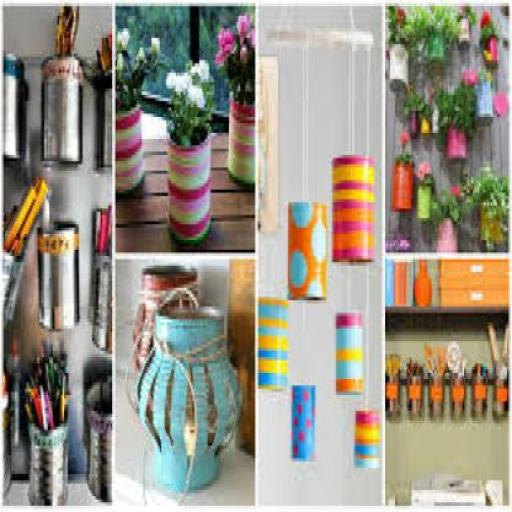metal: (136, 300, 244, 490), (130, 265, 197, 414), (166, 117, 211, 244), (38, 50, 83, 165), (330, 152, 372, 262), (36, 221, 78, 329), (286, 199, 324, 297), (26, 417, 66, 509), (84, 376, 109, 499), (114, 98, 143, 196), (2, 222, 26, 338), (226, 82, 252, 186), (257, 294, 285, 389), (3, 50, 25, 158), (88, 249, 110, 354), (334, 313, 360, 392), (94, 64, 110, 174), (291, 382, 313, 459), (353, 408, 377, 471), (390, 158, 412, 209), (490, 367, 508, 423), (388, 40, 407, 88), (474, 73, 490, 123), (444, 121, 464, 161), (449, 370, 464, 420), (435, 215, 457, 249), (382, 370, 398, 414), (414, 174, 430, 216), (428, 22, 441, 70), (428, 369, 441, 417), (406, 373, 420, 417), (472, 373, 484, 421), (455, 16, 468, 42), (486, 38, 496, 64)
